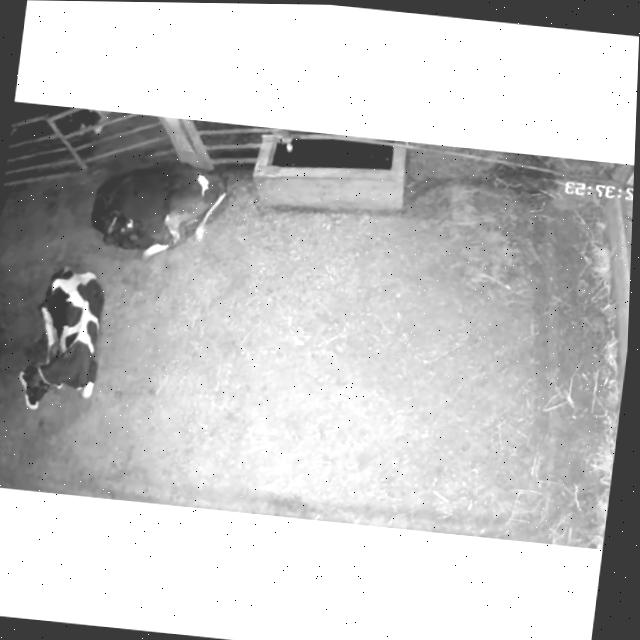lay: (63, 145, 237, 275), (0, 240, 121, 425)
